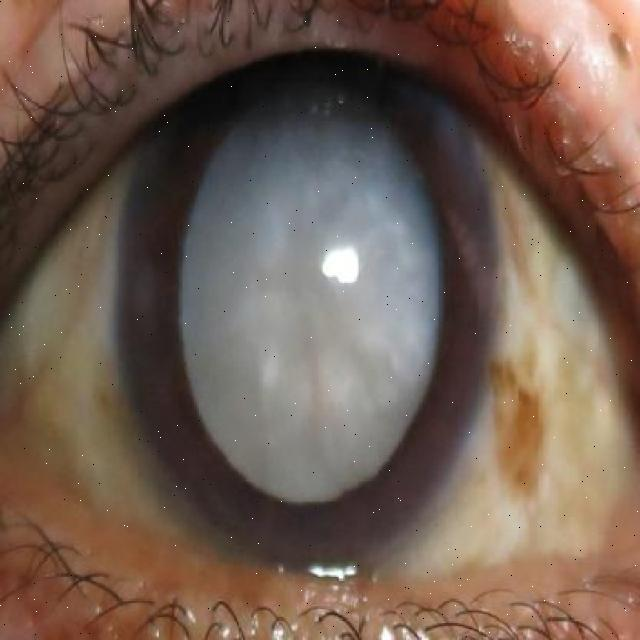Cataract: (111, 4, 507, 575)
